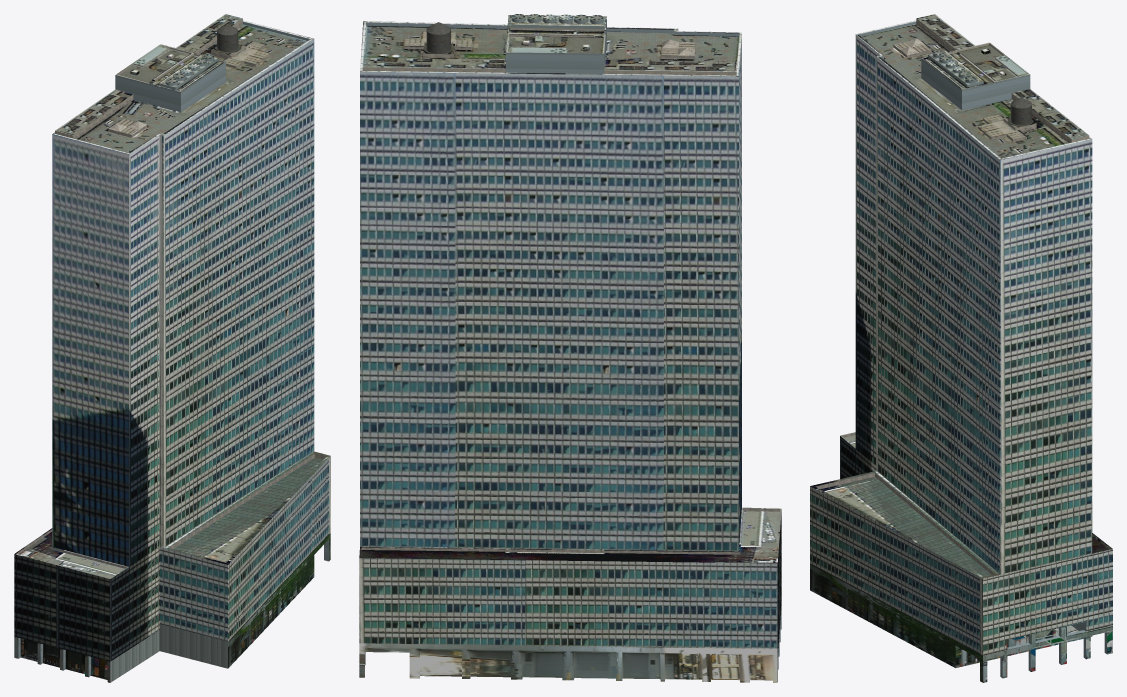
The model's file is 200-water-street.fbx.
The picture shows the model from 3 angles, left to right: view 1: azimuth 30°, elevation 25°; view 2: azimuth 150°, elevation 25°; view 3: azimuth 270°, elevation 25°; orthographic projection. The views are drawn at different scales.
Visible parts, largest first — view 1: Component_2_1; view 2: Component_2_1; view 3: Component_2_1.
Part boxes in pixels (left/top/right/bottom): Component_2_1: left=14, top=14, right=330, bottom=682; Component_2_1: left=359, top=14, right=781, bottom=682; Component_2_1: left=810, top=14, right=1112, bottom=682.
Size of what is drawn, in the model's own units: 3208 by 4914 by 2478.
